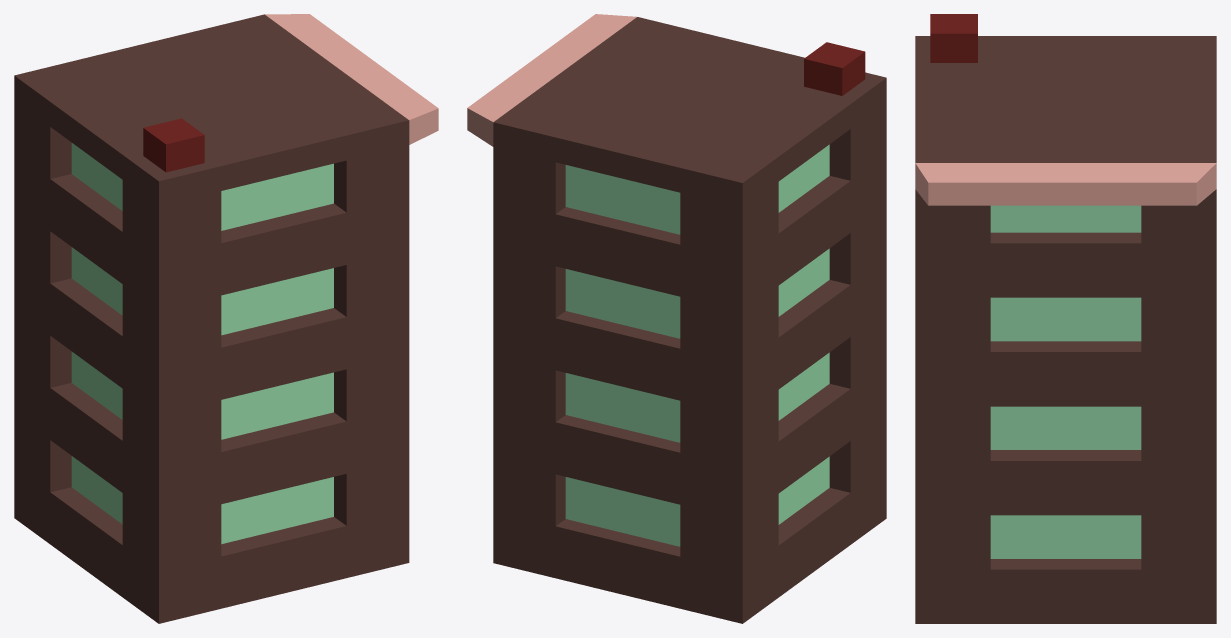
The model's file is edifiicio chico.fbx.
3 views of the same model, side by side, from view 1: azimuth 30°, elevation 25°; view 2: azimuth 150°, elevation 25°; view 3: azimuth 270°, elevation 25° (orthographic). The views are drawn at different scales.
Visible parts, largest first — view 1: Cube; view 2: Cube; view 3: Cube.
Part boxes in pixels (box(x1,y1,x2,y2)): Cube: box(14, 14, 438, 623); Cube: box(467, 14, 886, 623); Cube: box(915, 14, 1216, 623).
Bounding box in the file's own units: 233 × 367 × 204.
